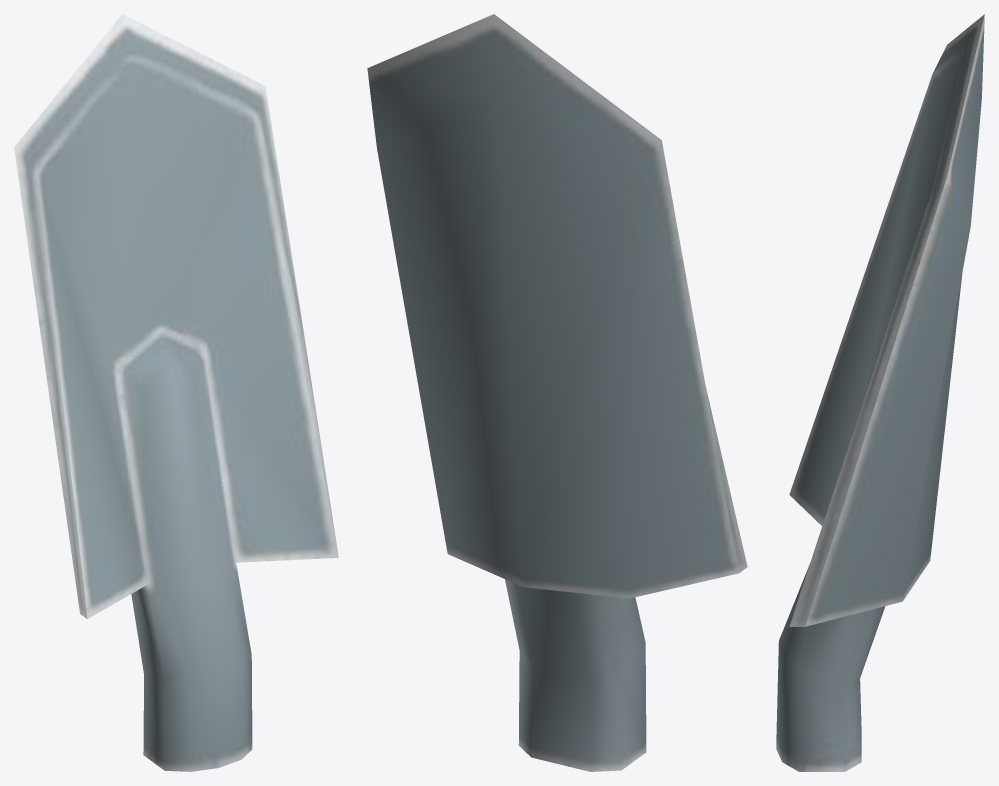
The model's file is shovel.glb.
The picture shows the model from 3 angles, left to right: view 1: azimuth 30°, elevation 25°; view 2: azimuth 150°, elevation 25°; view 3: azimuth 270°, elevation 25°; orthographic projection. The views are drawn at different scales.
Visible parts, largest first — view 1: Shovel.001; view 2: Shovel.001; view 3: Shovel.001.
Boxes of the visible parts, x1,y1,x2,y2 form: Shovel.001: (14, 14, 338, 771); Shovel.001: (367, 14, 747, 771); Shovel.001: (776, 14, 984, 771).
Bounding box in the file's own units: 0.2932 × 0.7609 × 0.1958.
Materials: 1 (1 with a texture image).
